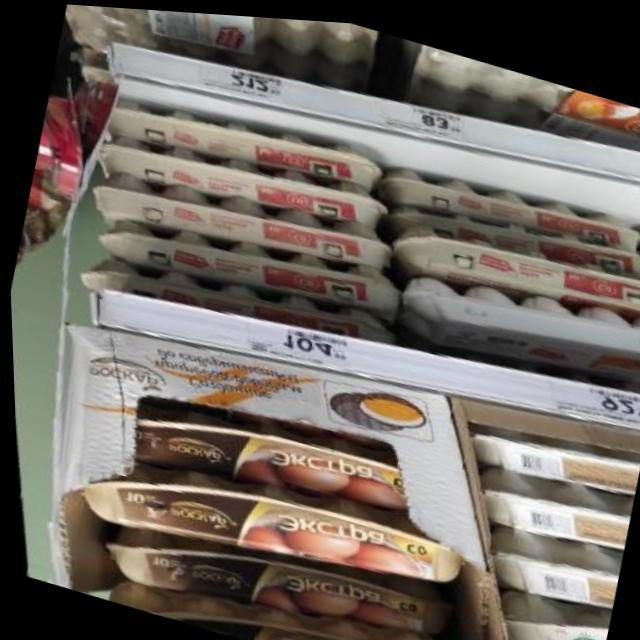Egg: (59, 409, 479, 623), (80, 481, 469, 640), (65, 221, 404, 379), (78, 181, 412, 340), (73, 135, 403, 294), (110, 364, 416, 532), (85, 101, 396, 249), (377, 233, 640, 399), (77, 533, 476, 640), (94, 68, 392, 209), (384, 191, 640, 336), (373, 138, 640, 267), (386, 172, 640, 295), (453, 392, 640, 503), (464, 438, 634, 555), (479, 497, 624, 610), (468, 622, 597, 640)
